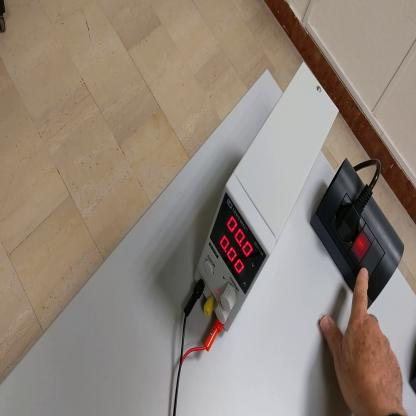hand: (317, 265, 406, 415)
power supply: (197, 76, 346, 336)
socket: (311, 155, 405, 308), (409, 339, 416, 393)
